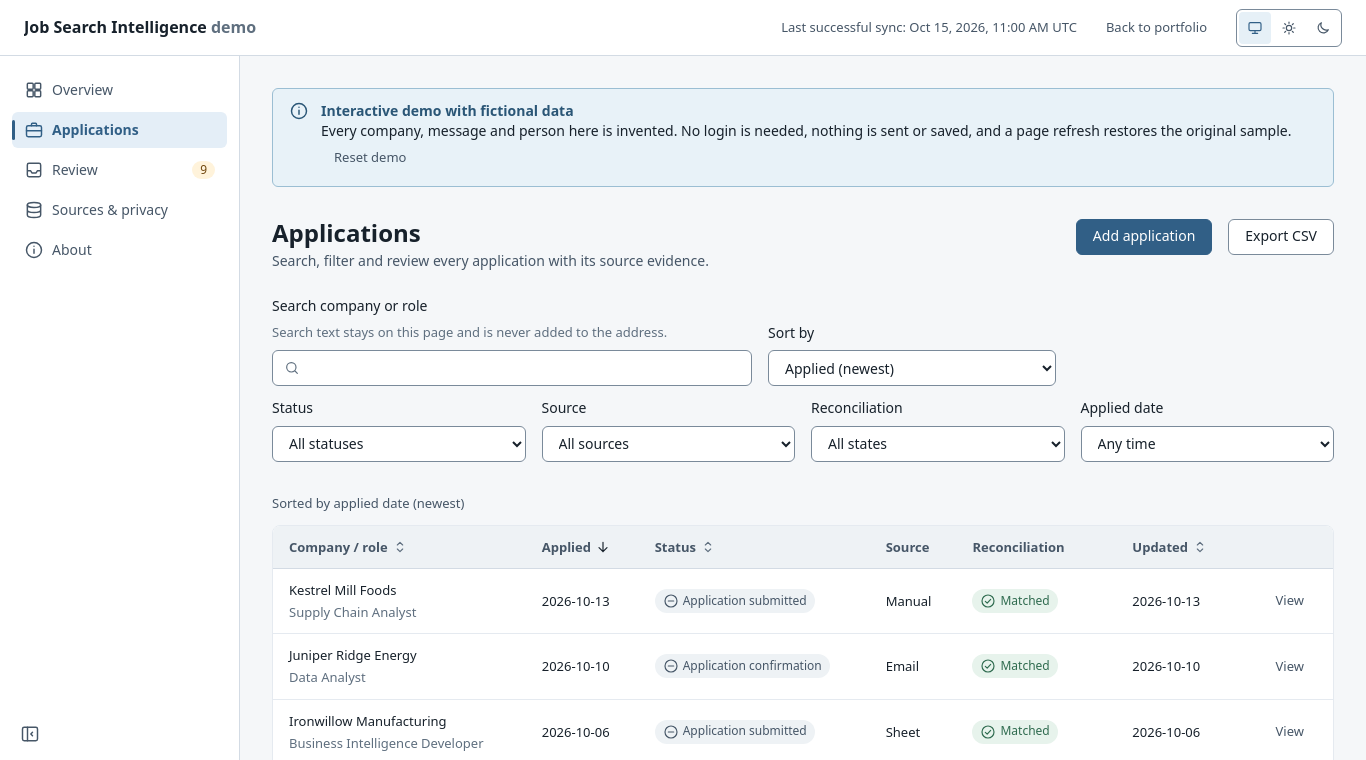
Test: applications › filters by status, source, reconciliation and date preset using only enumerated URL values
The width and height of the screenshot is (1366, 760).
Select "Manual" in the dropdown labelled "Source" at {"x": 668, "y": 444}, box [542, 426, 795, 462]
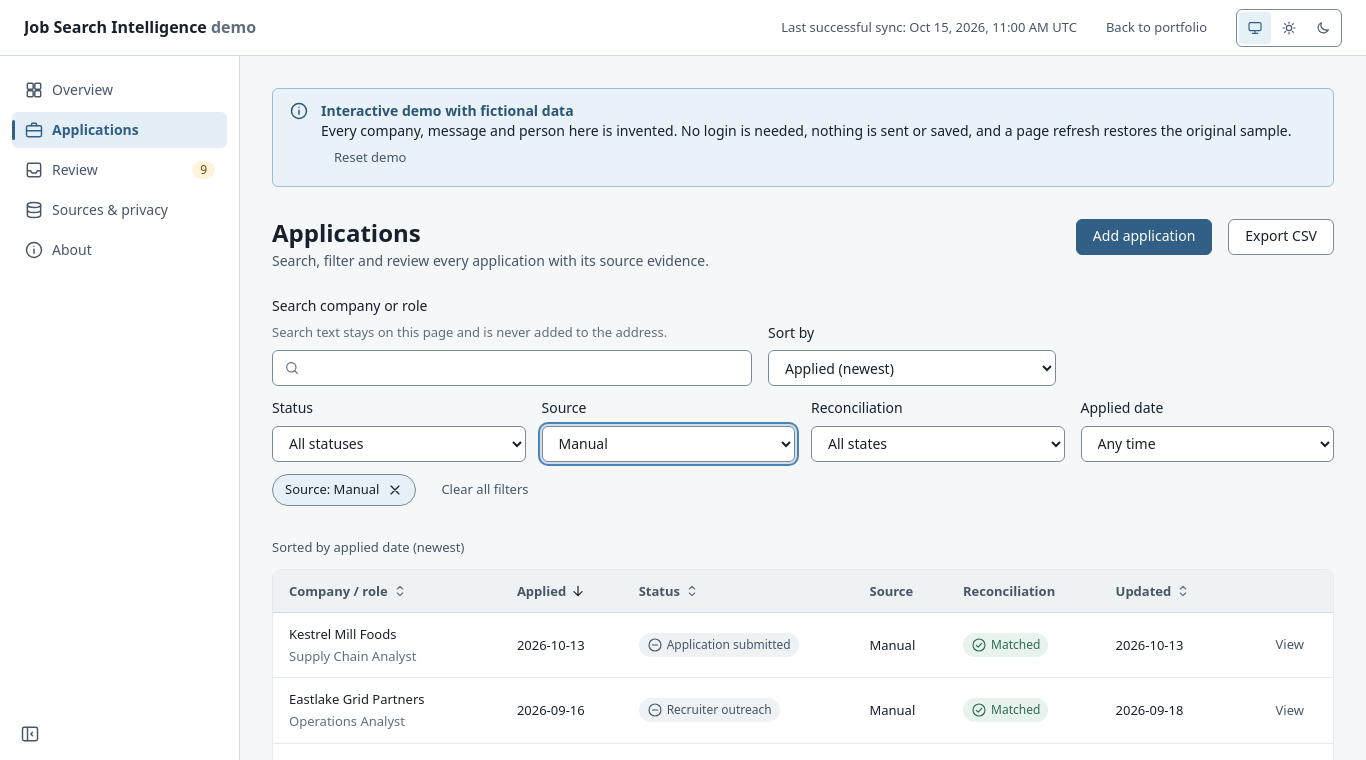
Select "Matched" in the dropdown labelled "Reconciliation" at {"x": 938, "y": 444}, box [811, 426, 1064, 462]
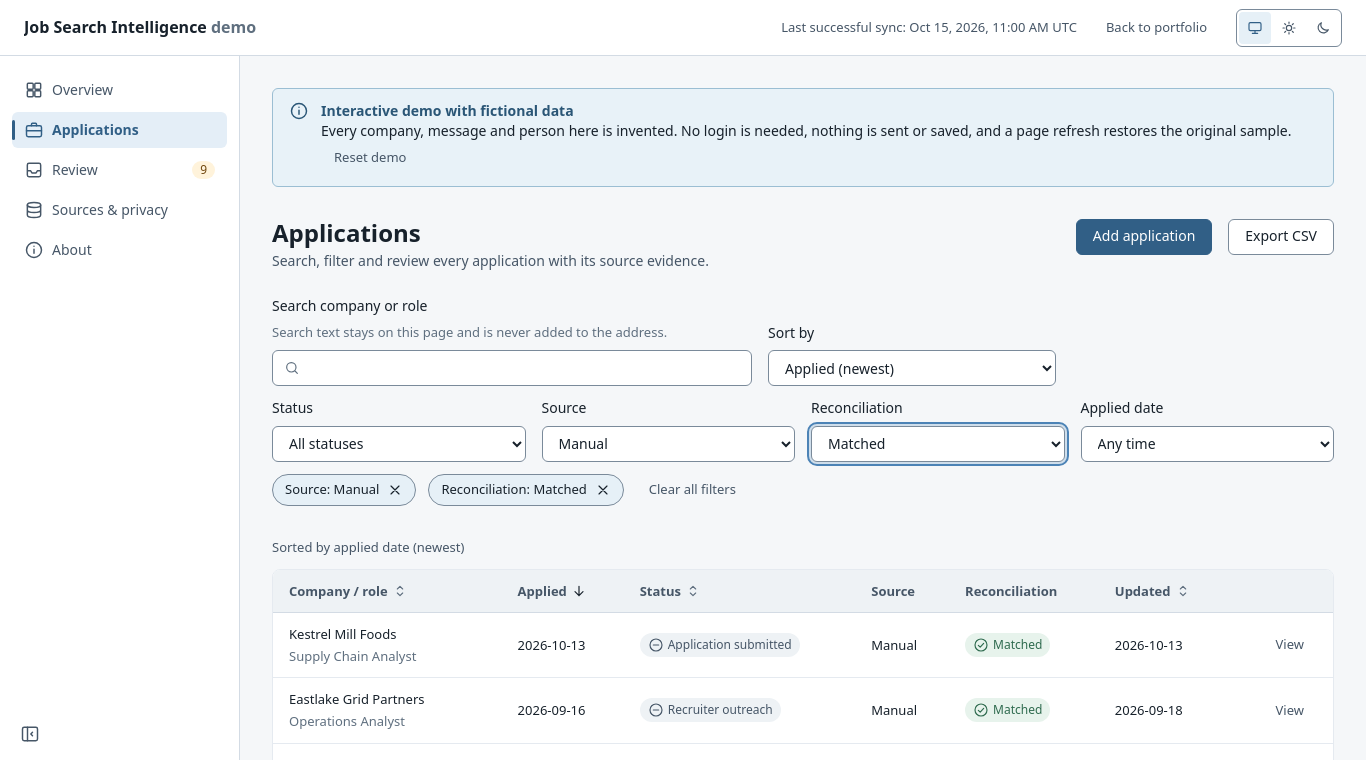
Select "Screening" in the dropdown labelled "Status" at {"x": 399, "y": 444}, box [272, 426, 526, 462]
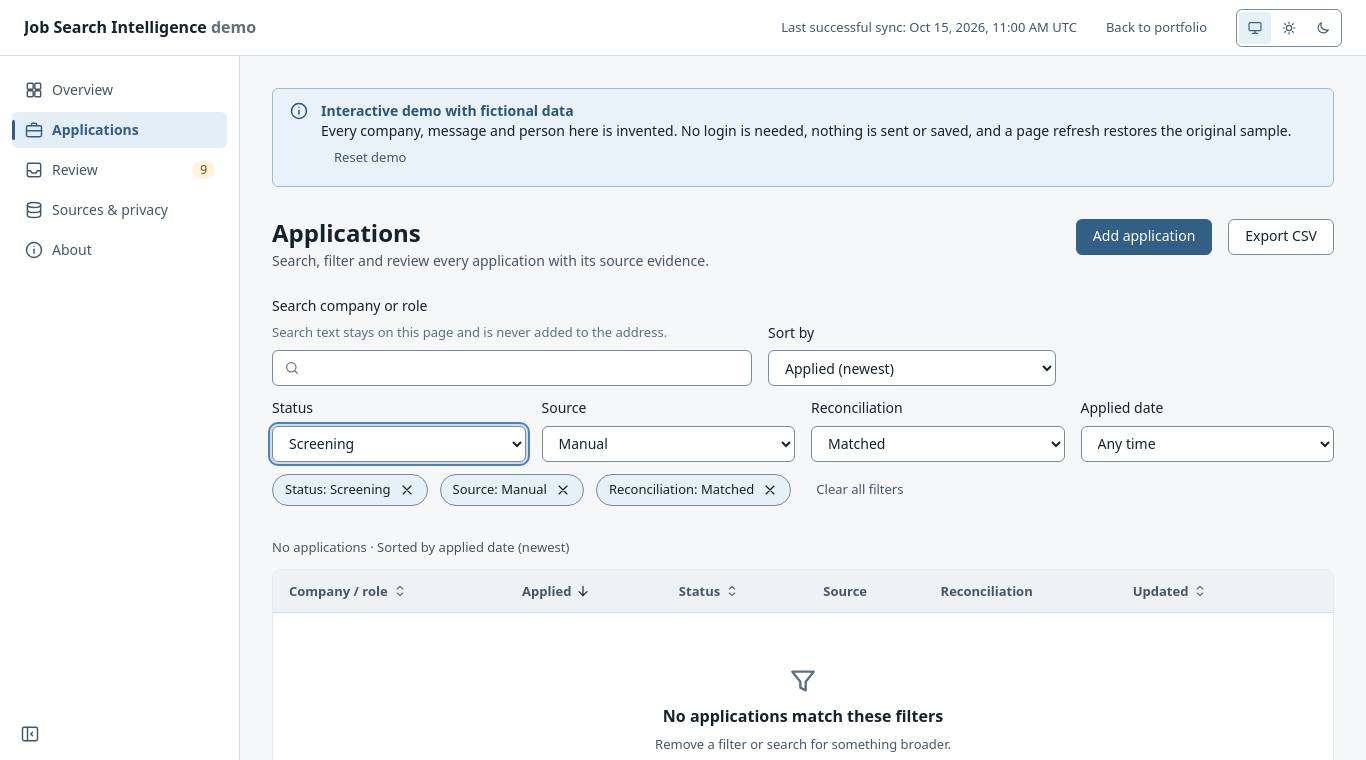
Click the button with aria-label "Remove filter: Status: Screening" at {"x": 350, "y": 490}, box [272, 474, 428, 506]
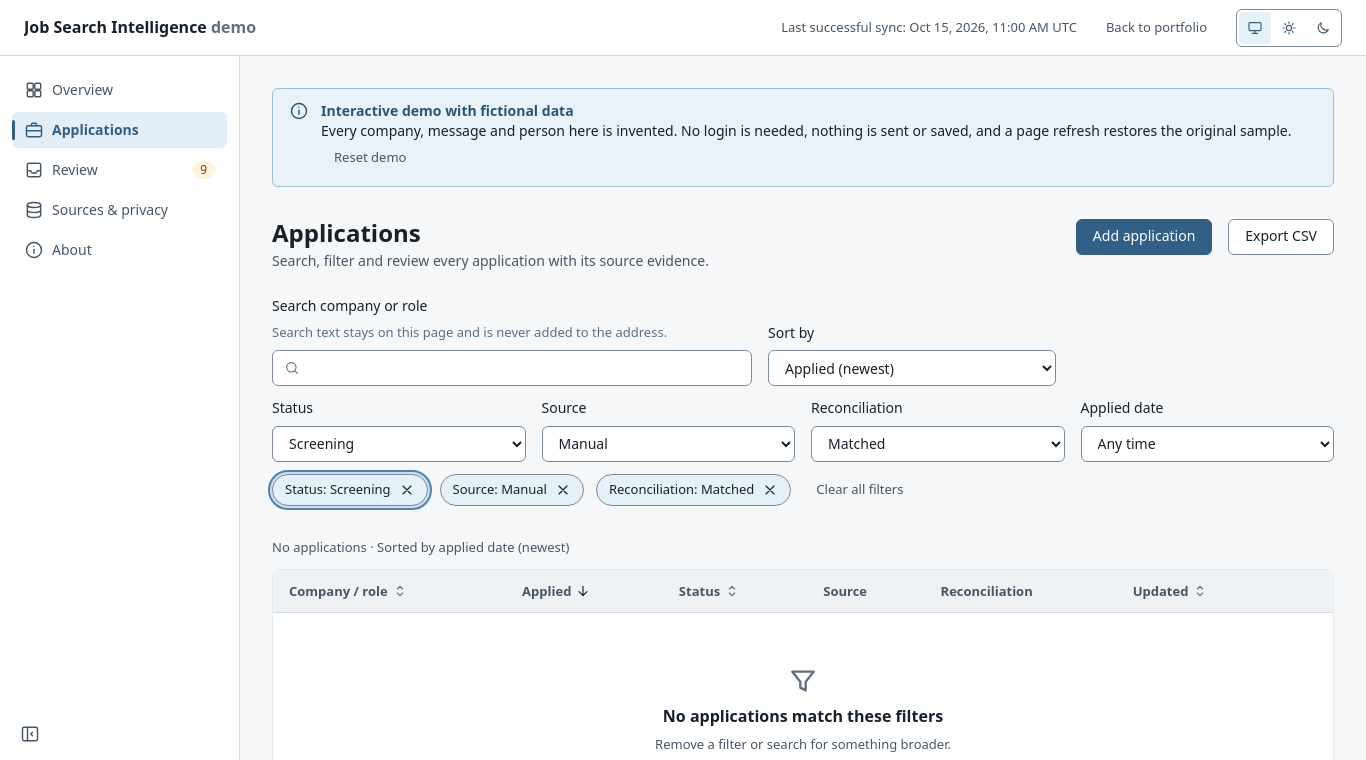
Select "Last 90 days" in the dropdown labelled "Applied date" at {"x": 1207, "y": 444}, box [1080, 426, 1334, 462]
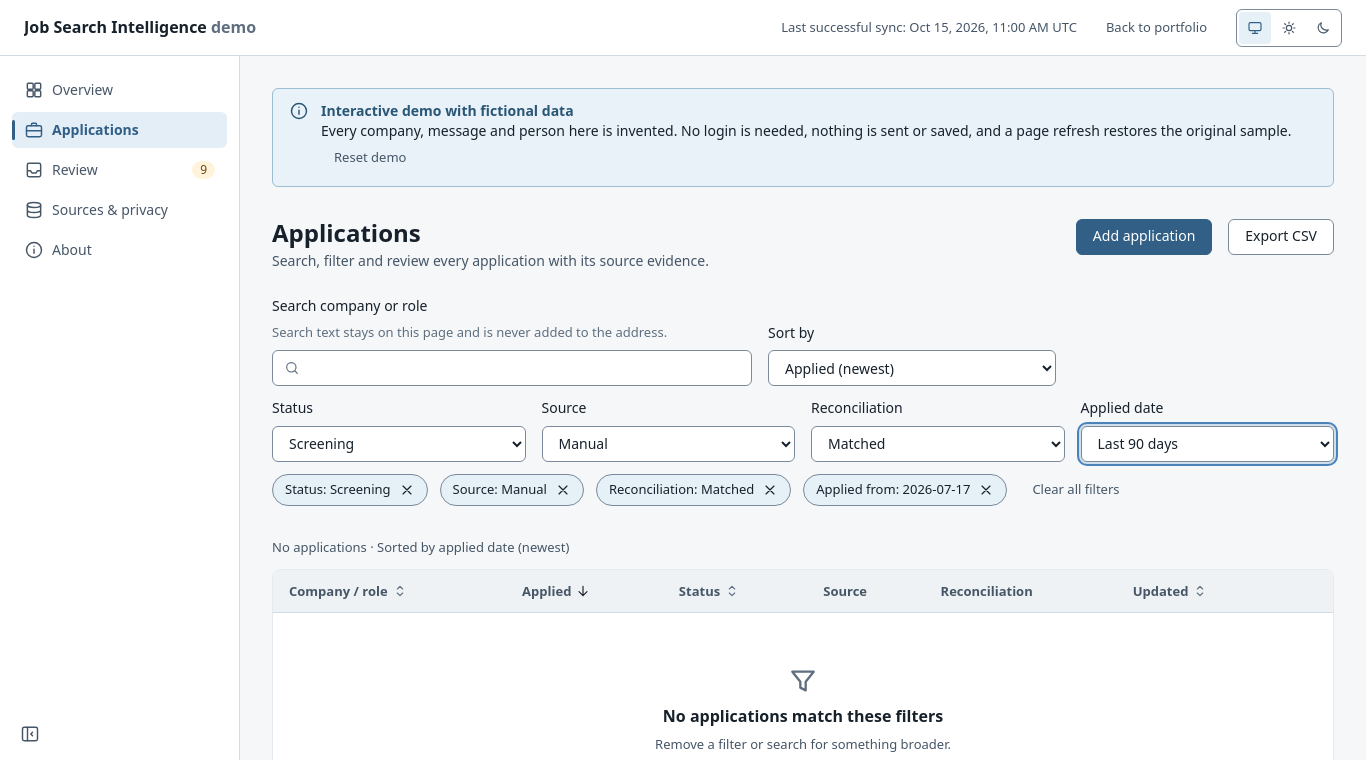
Expected: the button with aria-label "Remove filter: Applied from: 2026-07-17" is shown, [803, 474, 1007, 506]
Click the button "Clear all filters" at {"x": 1076, "y": 490}, box [1019, 474, 1132, 506]
(page scrolled)
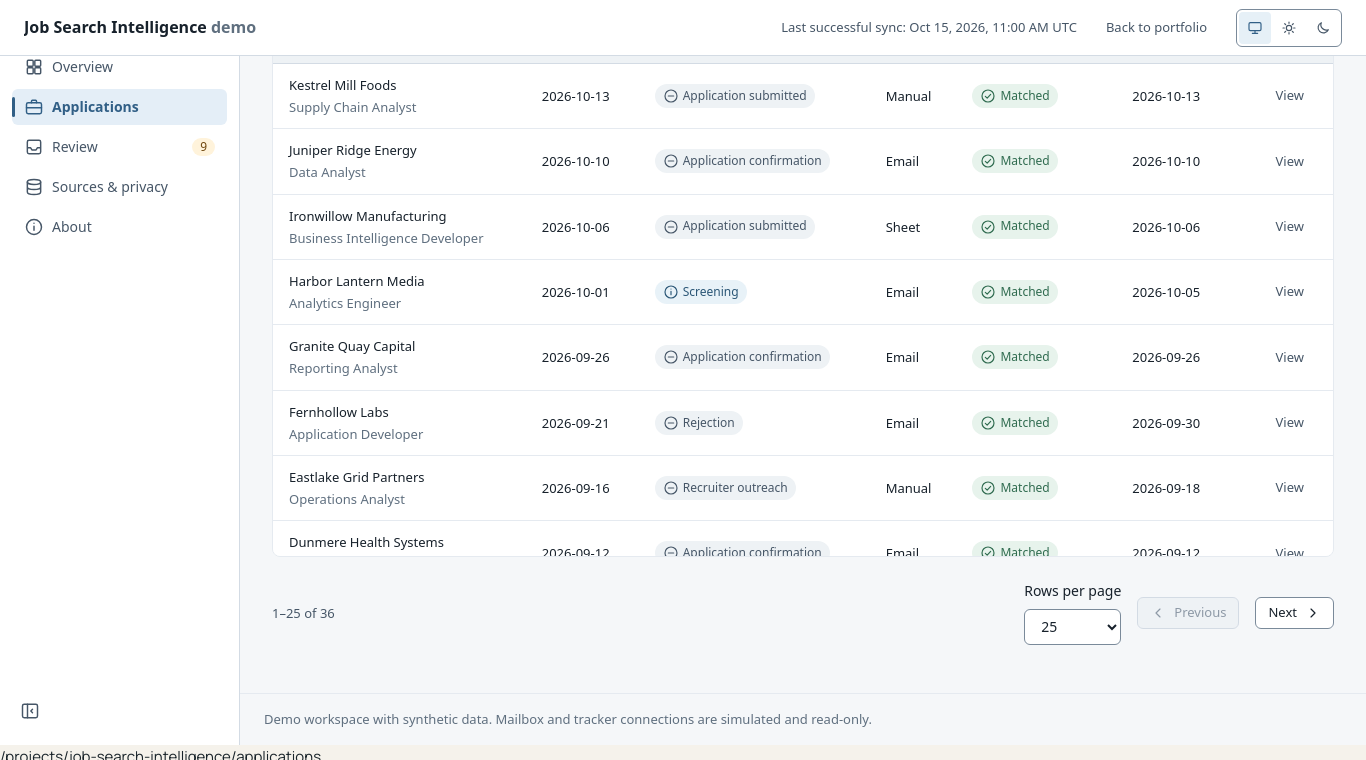
Expected: the text "1–25 of 36" is shown, [272, 604, 335, 622]
